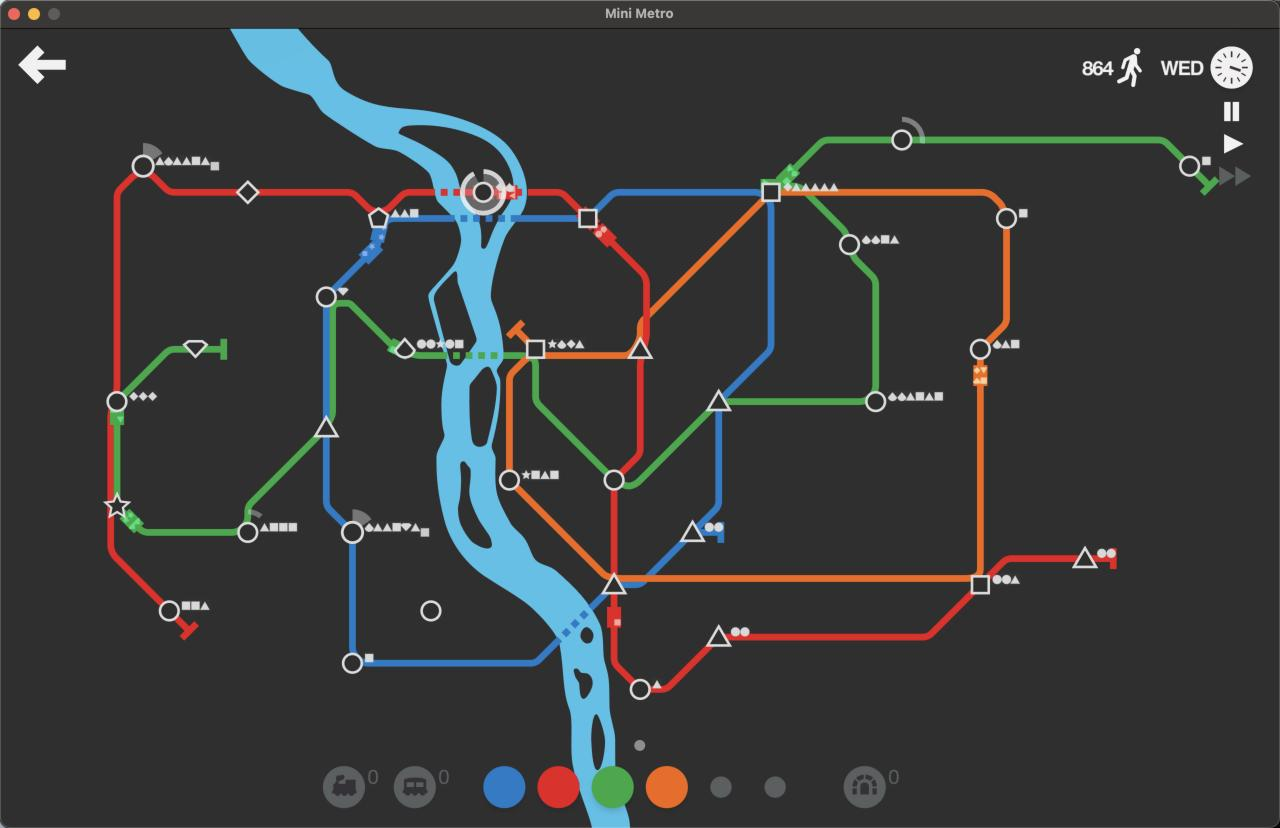CIRCLE: (340, 520, 364, 545), (131, 154, 155, 178), (237, 521, 260, 544), (341, 652, 364, 675), (995, 207, 1017, 230), (106, 391, 128, 414), (969, 338, 991, 361), (603, 468, 625, 491), (891, 128, 913, 151), (1179, 154, 1201, 177), (865, 390, 887, 413), (158, 600, 180, 622), (629, 678, 651, 700), (420, 600, 442, 622), (315, 286, 337, 308), (838, 233, 860, 255), (472, 182, 494, 203), (499, 469, 520, 491)
DIAMOND: (183, 339, 208, 357)
GEM: (236, 180, 259, 204)
PENTAGON: (368, 207, 388, 229)
SQUARE: (577, 208, 598, 229), (970, 574, 991, 595), (525, 339, 546, 359), (761, 182, 782, 202)
STAR: (103, 493, 131, 519)
TRIANGLE: (680, 519, 706, 544), (705, 388, 732, 412), (601, 572, 628, 596), (1071, 545, 1098, 569), (626, 337, 654, 360), (706, 624, 731, 648), (313, 416, 339, 438)
WEDGE: (394, 337, 416, 359)
